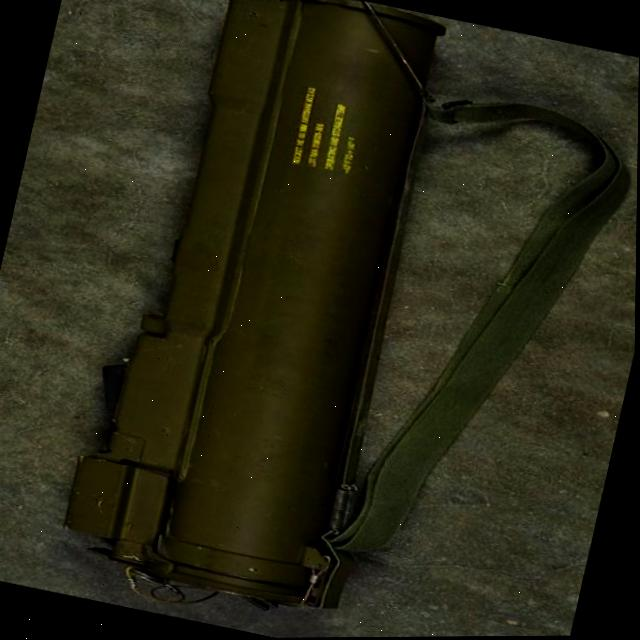rocket: (17, 0, 640, 640)
